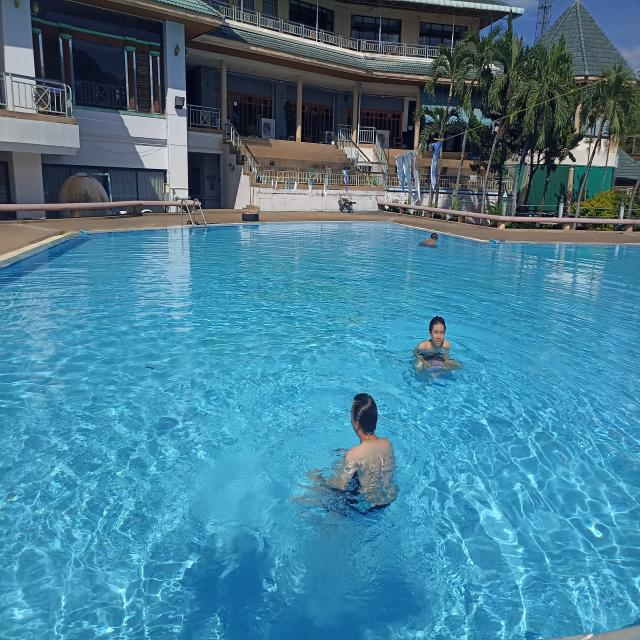Swimming: (302, 388, 400, 522), (411, 304, 464, 374), (417, 221, 440, 252)
